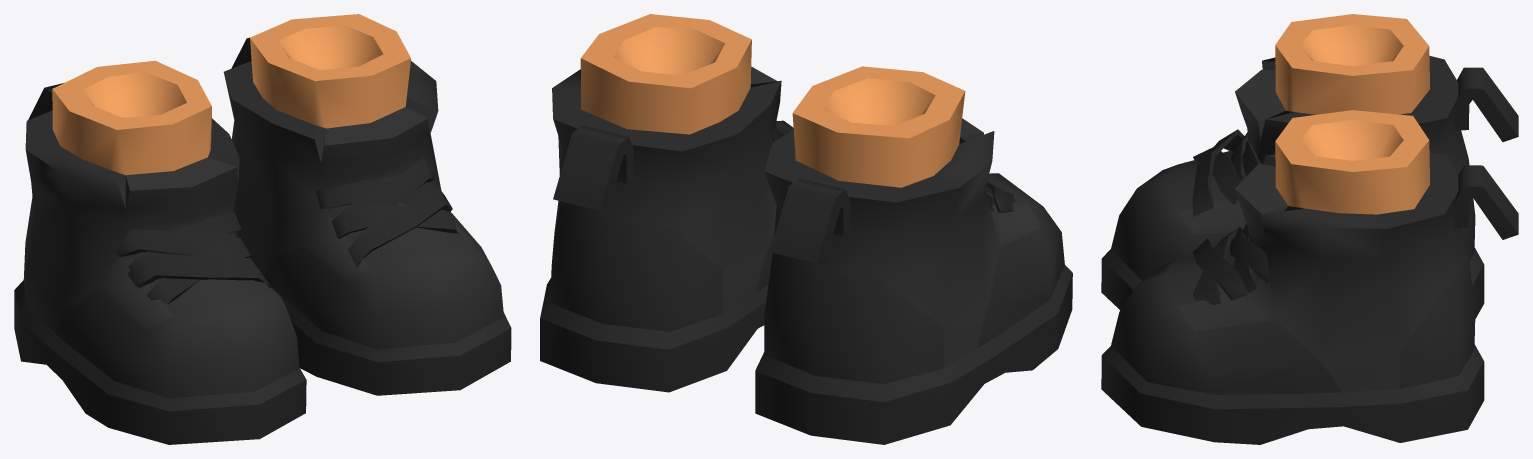
File: Shoes_18.fbx
3 views of the same model, side by side, from view 1: azimuth 30°, elevation 25°; view 2: azimuth 150°, elevation 25°; view 3: azimuth 270°, elevation 25° (orthographic). The views are drawn at different scales.
Visible parts, largest first — view 1: Shoes_18; view 2: Shoes_18; view 3: Shoes_18.
Part boxes in pixels (x1,y1,x2,y2): Shoes_18: (14,14,511,444); Shoes_18: (540,14,1072,444); Shoes_18: (1101,14,1518,444).
Bounding box in the file's own units: 40.49 × 26 × 37.94.
